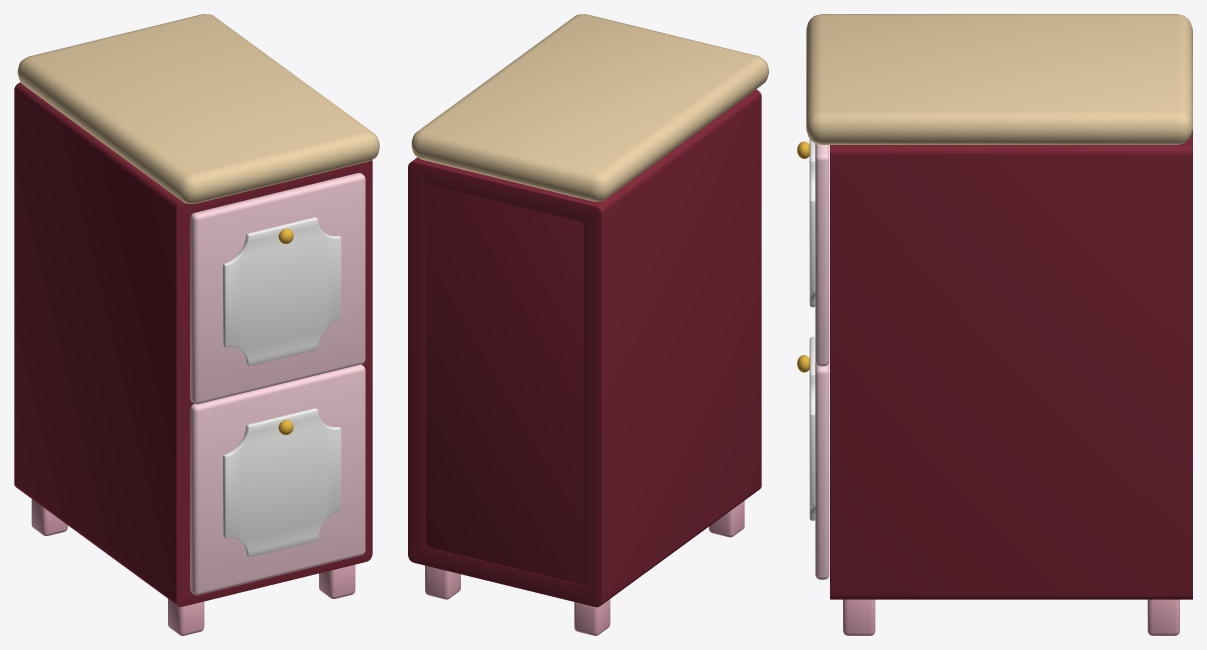
Rendered from gaveteiro_cozinha_2gavetas_classica_vinho.glb.
3 renders of one model, left to right at view 1: azimuth 30°, elevation 25°; view 2: azimuth 150°, elevation 25°; view 3: azimuth 270°, elevation 25°, orthographic. The views are drawn at different scales.
Visible parts, largest first — view 1: gaveteiro_cozinha_2gavetas_classica_vinho, gaveta_1, gaveta_2; view 2: gaveteiro_cozinha_2gavetas_classica_vinho; view 3: gaveteiro_cozinha_2gavetas_classica_vinho, gaveta_2, gaveta_1.
Part boxes in pixels (x1=…): gaveteiro_cozinha_2gavetas_classica_vinho: x1=14, y1=14, x2=379, y2=635; gaveta_1: x1=190, y1=173, x2=365, y2=404; gaveta_2: x1=190, y1=364, x2=365, y2=595; gaveteiro_cozinha_2gavetas_classica_vinho: x1=408, y1=14, x2=768, y2=635; gaveteiro_cozinha_2gavetas_classica_vinho: x1=806, y1=14, x2=1192, y2=635; gaveta_2: x1=797, y1=336, x2=829, y2=579; gaveta_1: x1=797, y1=139, x2=829, y2=366.
Size of the model in its own units: 0.398 by 0.9 by 0.6131.
Materials: 1 (1 with a texture image).
